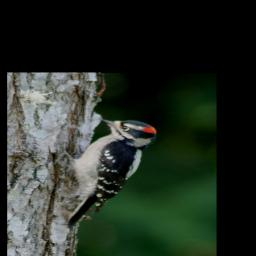Woodpecker: (59, 116, 160, 231)
